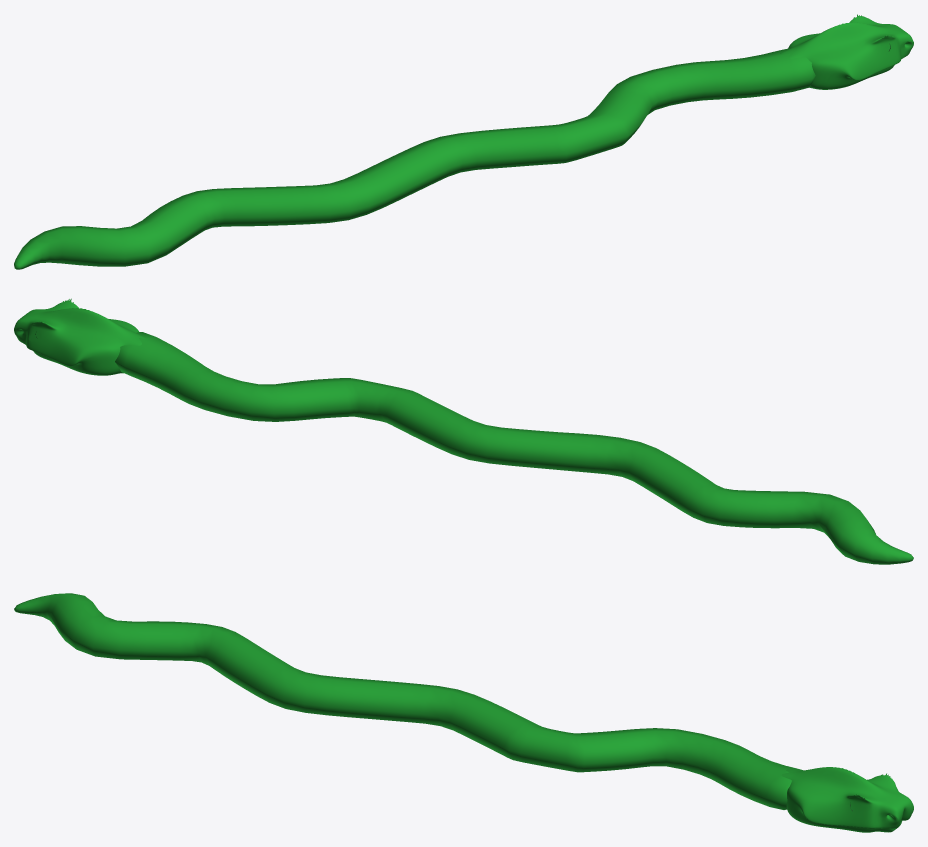
3 renders of one model, top to bottom at view 1: azimuth 30°, elevation 25°; view 2: azimuth 150°, elevation 25°; view 3: azimuth 330°, elevation 25°, orthographic.
Parts seen in each view (by area): view 1: Serpiente; view 2: Serpiente; view 3: Serpiente.
Part boxes in pixels (x1,y1,x2,y2): Serpiente: (14, 14, 913, 269); Serpiente: (14, 298, 913, 564); Serpiente: (14, 593, 913, 832).
Size of the model in its own units: 21507 by 1214 by 2550.
